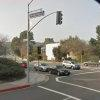Traffic light: (50, 6, 69, 31)
